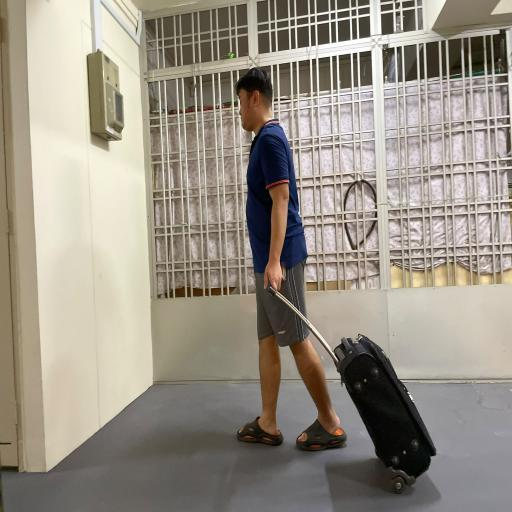person_left: (229, 69, 443, 501)
